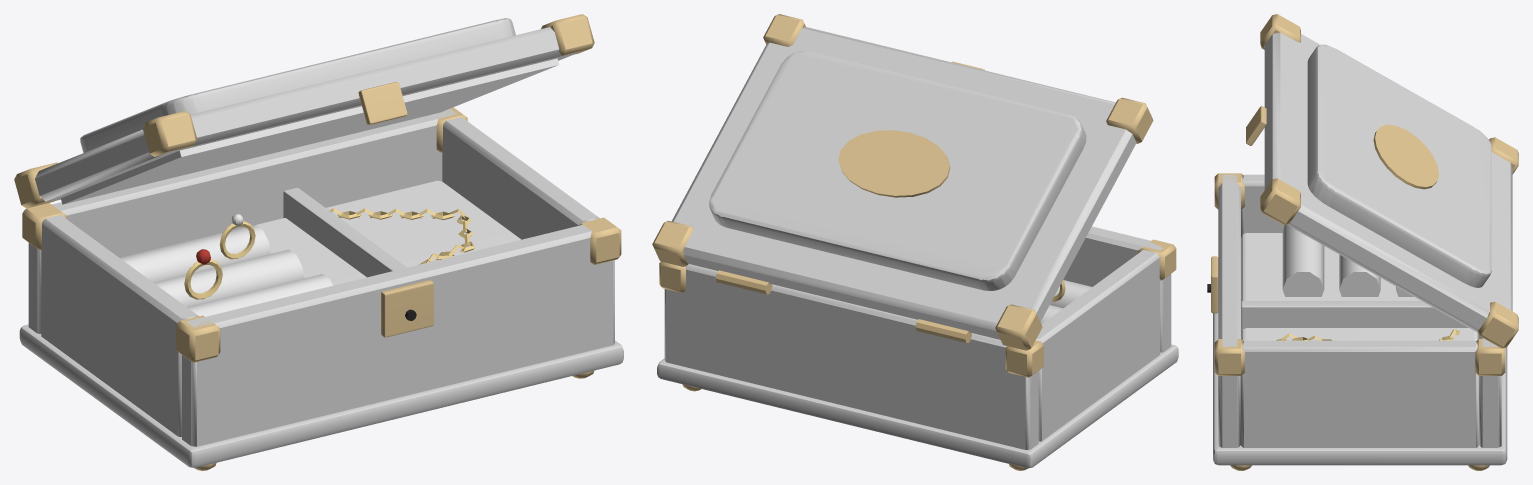
File: SM_Loot_JewelryBox.fbx
The picture shows the model from 3 angles, left to right: view 1: azimuth 30°, elevation 25°; view 2: azimuth 150°, elevation 25°; view 3: azimuth 270°, elevation 25°; orthographic projection. The views are drawn at different scales.
Parts seen in each view (by area): view 1: SM_Loot_JewelryBox; view 2: SM_Loot_JewelryBox; view 3: SM_Loot_JewelryBox.
Boxes of the visible parts, box(x1,y1,x2,y2) form: SM_Loot_JewelryBox: box(14, 14, 623, 470); SM_Loot_JewelryBox: box(652, 14, 1178, 470); SM_Loot_JewelryBox: box(1207, 14, 1518, 470).
Size of the model in its own units: 22.6 by 16.93 by 16.51.
